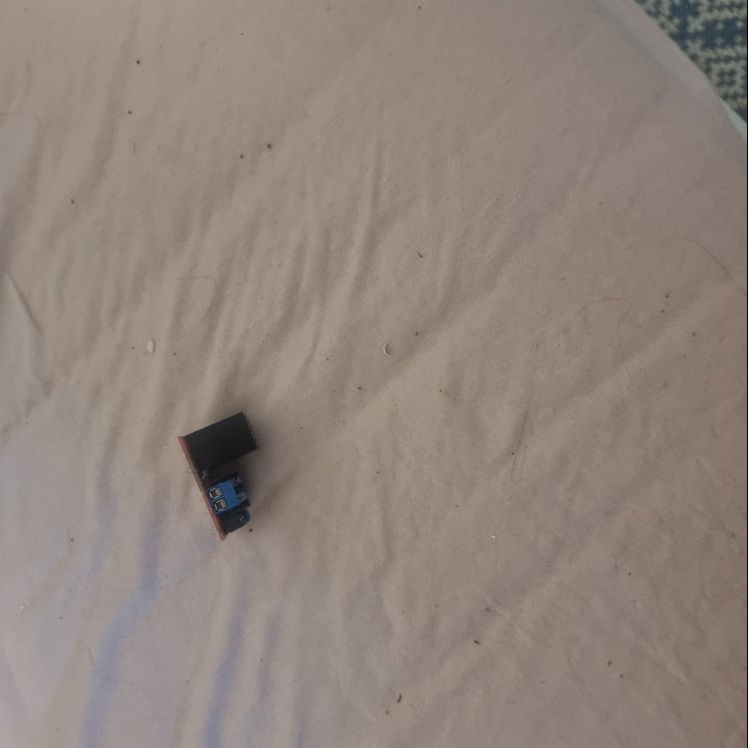MOTOR: (177, 408, 266, 546)
